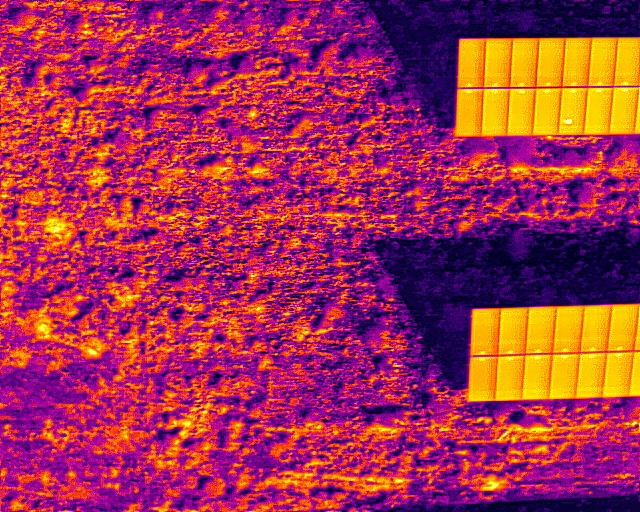photovoltaic_panels: (454, 35, 638, 138), (467, 303, 639, 403)
single_spot: (557, 85, 588, 136)
